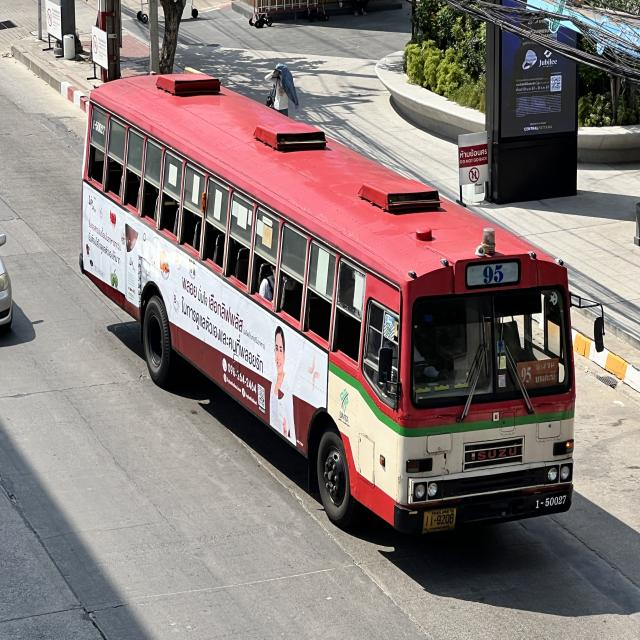BMTA-bus: (79, 70, 576, 540)
Bus-Line-Number: (465, 256, 521, 292)
Destination-Sign-Normal: (517, 358, 560, 386)
